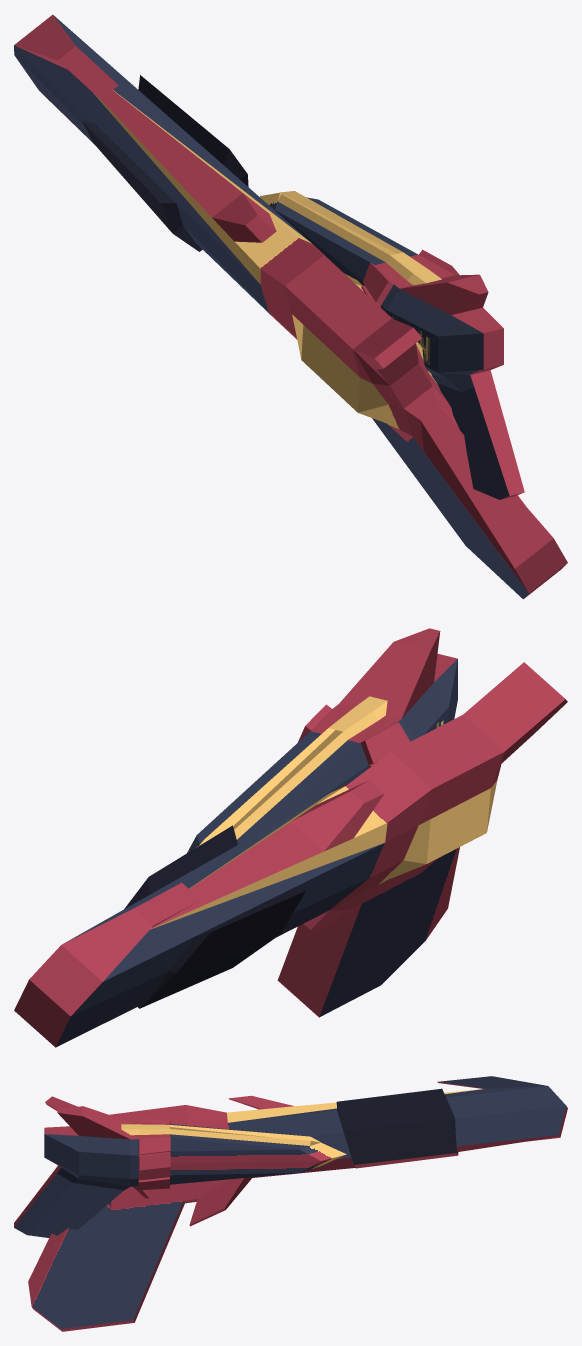
File: pistol.gltf
The picture shows the model from 3 angles, top to bottom: view 1: azimuth 30°, elevation 25°; view 2: azimuth 150°, elevation 25°; view 3: azimuth 270°, elevation 25°; orthographic projection. The views are drawn at different scales.
Visible parts, largest first — view 1: beveled_cuboid (×2); view 2: beveled_cuboid (×2); view 3: beveled_cuboid (×2).
Part boxes in pixels (bbox=[...]): beveled_cuboid (×2): bbox=[14, 14, 567, 599]; beveled_cuboid (×2): bbox=[14, 628, 567, 1047]; beveled_cuboid (×2): bbox=[14, 1076, 567, 1331].
Bounding box in the file's own units: 0.5211 × 0.874 × 2.
Materials: 2 (2 with a texture image).
